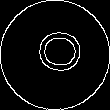O_W: (28, 31, 82, 79)
